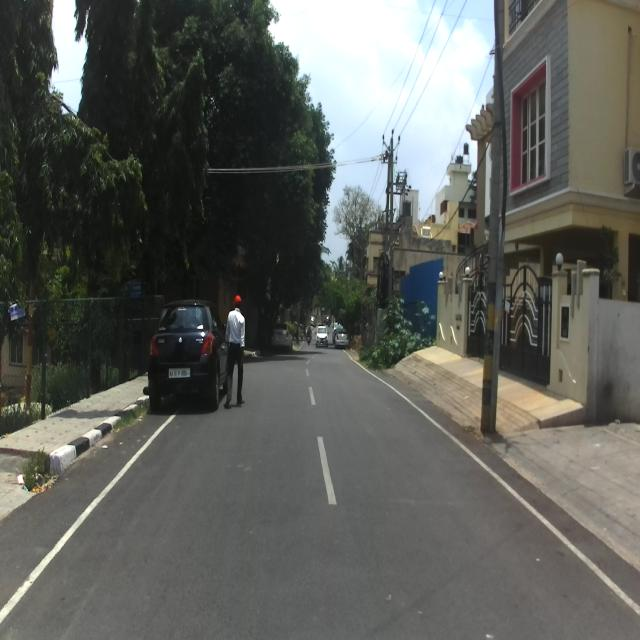car ahead at: (150, 297, 227, 416)
electric pole ahead at: (476, 0, 516, 452)
person ahead at: (227, 293, 248, 419)
